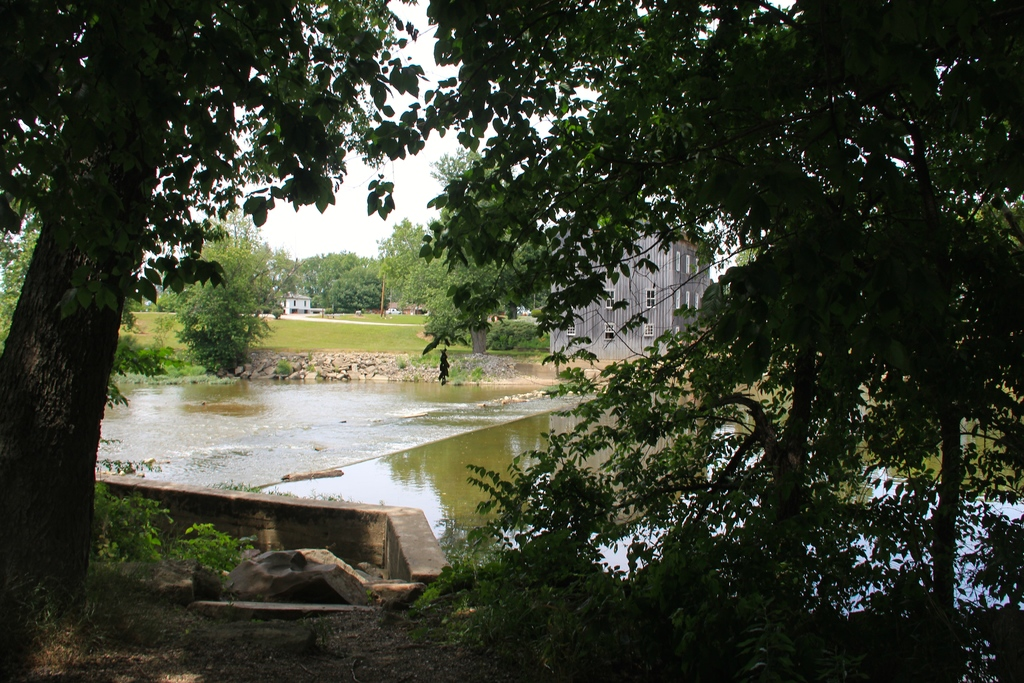Tree: (0, 0, 1023, 682), (0, 0, 446, 625), (435, 120, 542, 365), (158, 204, 300, 379), (280, 258, 393, 312), (376, 219, 430, 314), (402, 245, 458, 319), (133, 267, 192, 317)
